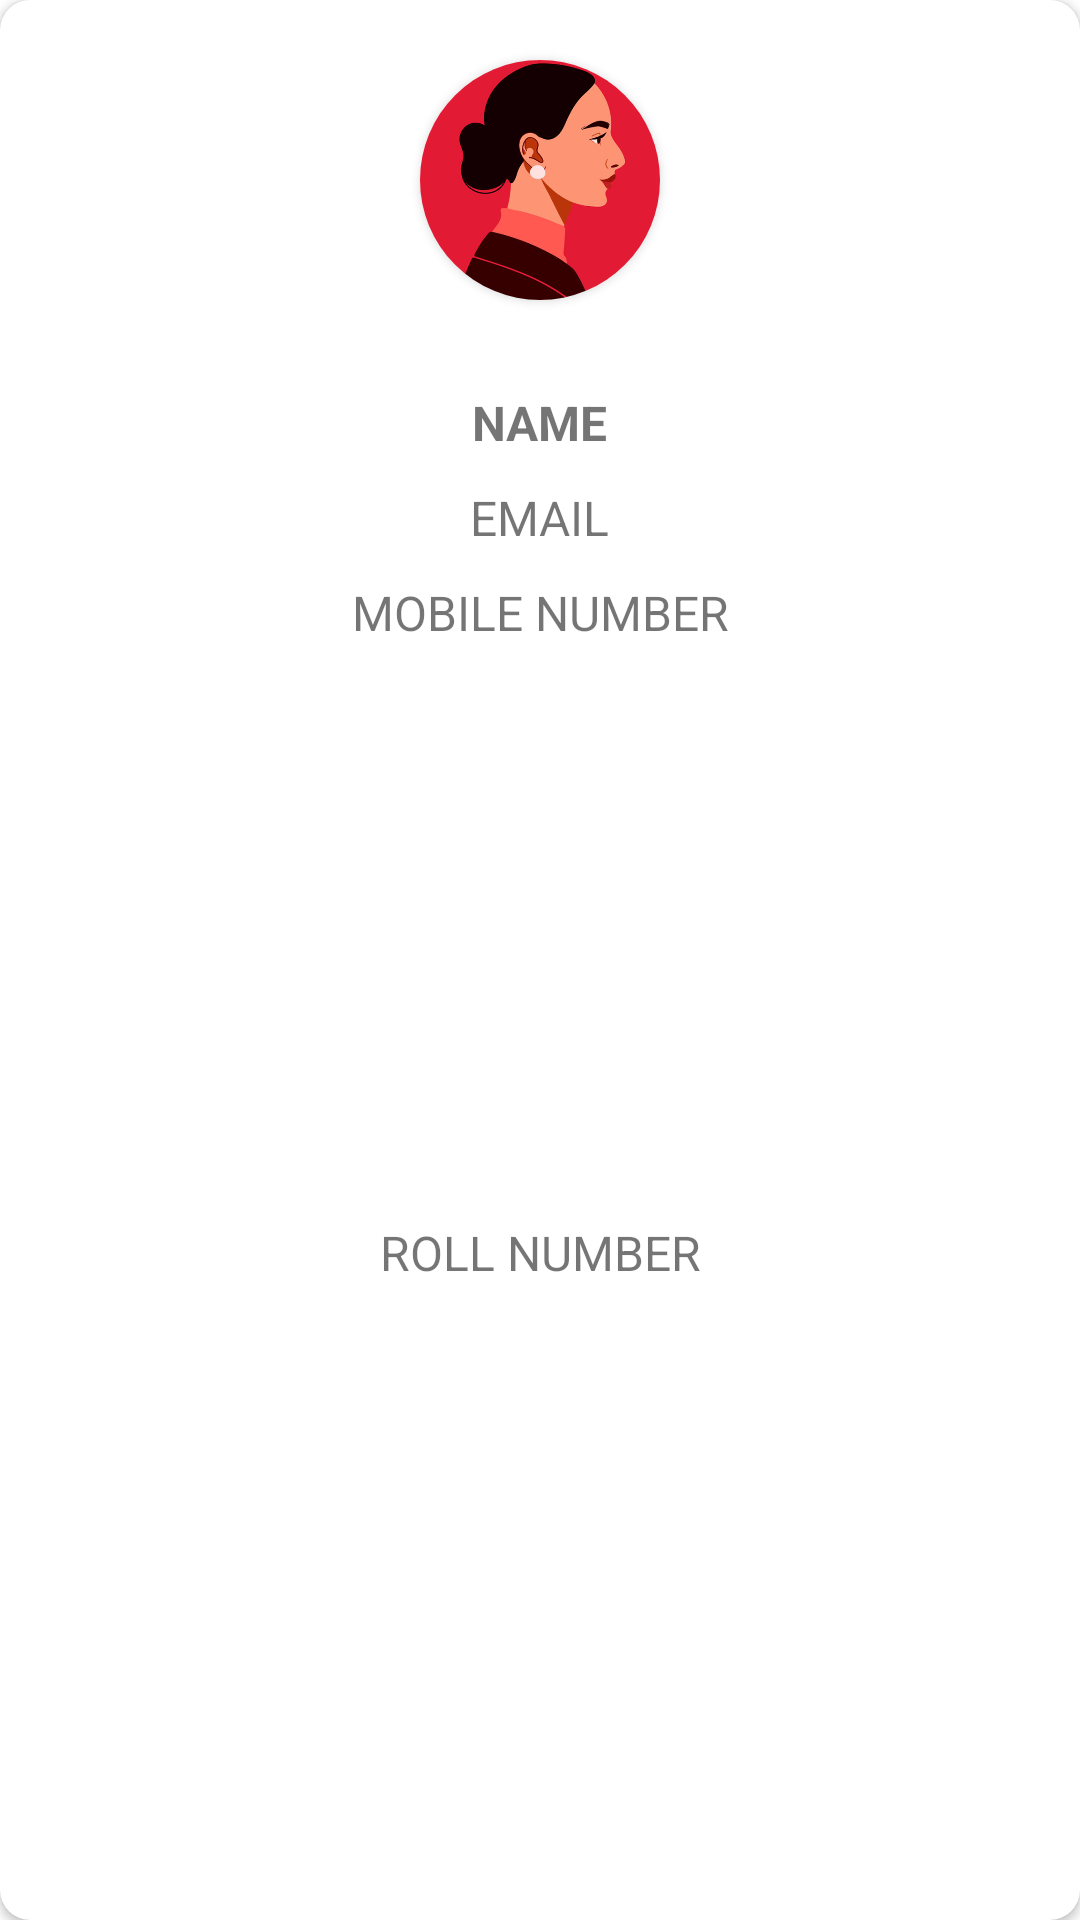

Point at icon controls on the screen. Image size 1080×1920, points as point (x, y).
female: point (540, 180)
